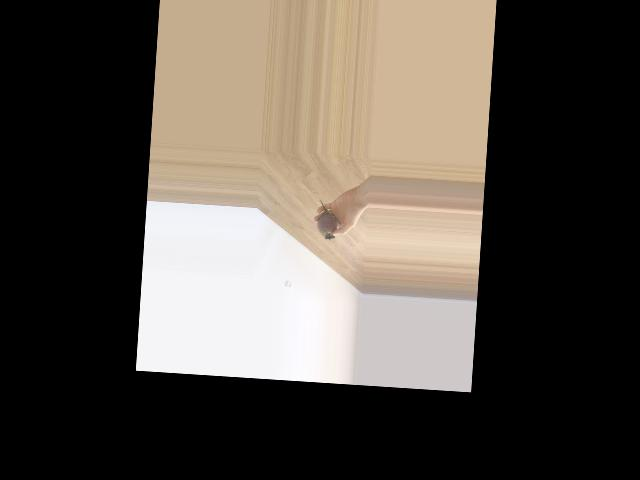beet: (315, 200, 340, 240)
